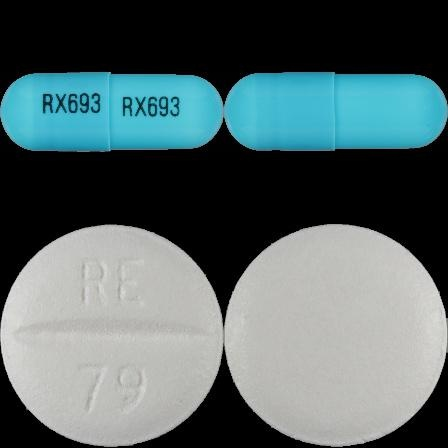50436-3148: (0, 0, 224, 224)
